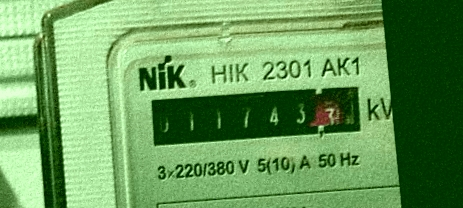0: (155, 107, 172, 135)
1: (182, 104, 199, 133), (210, 102, 226, 132)
3: (291, 99, 307, 127), (321, 106, 338, 128)
4: (265, 102, 281, 128)
7: (237, 103, 253, 129)
screen: (141, 74, 372, 159)
